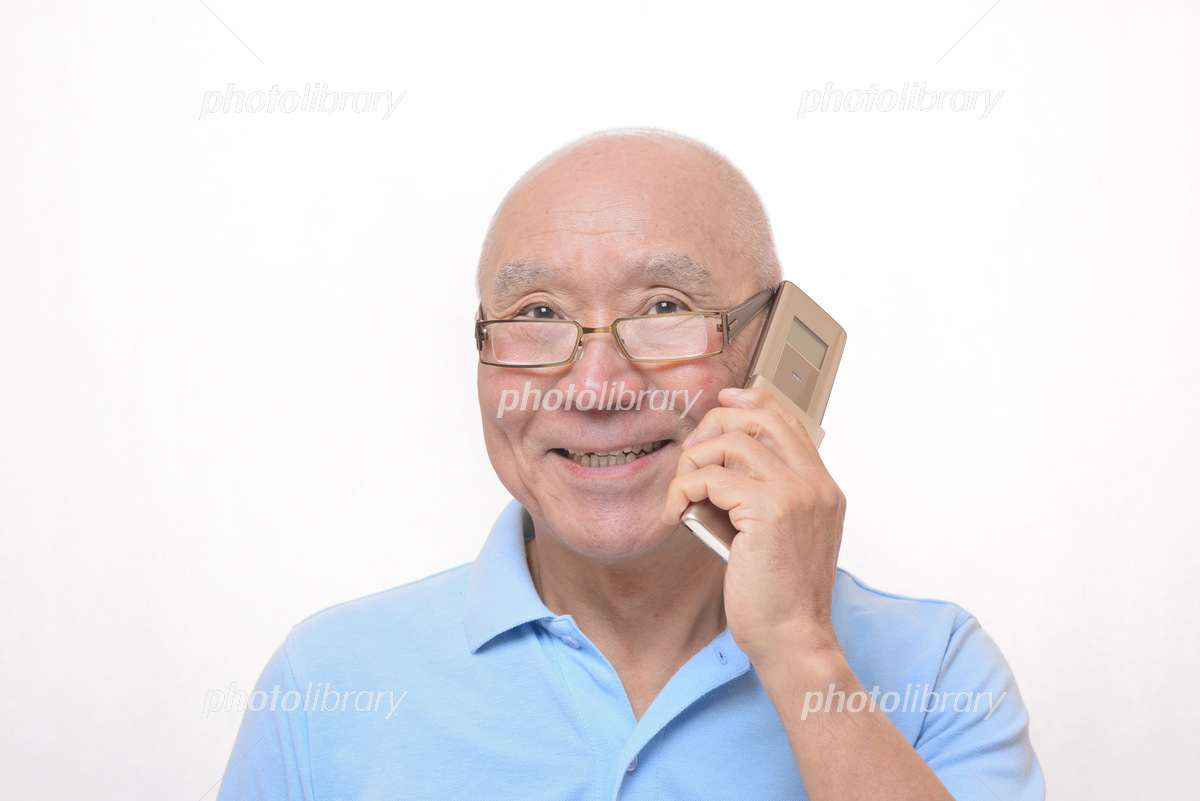phone: (663, 361, 799, 549)
talk: (476, 245, 852, 659)
